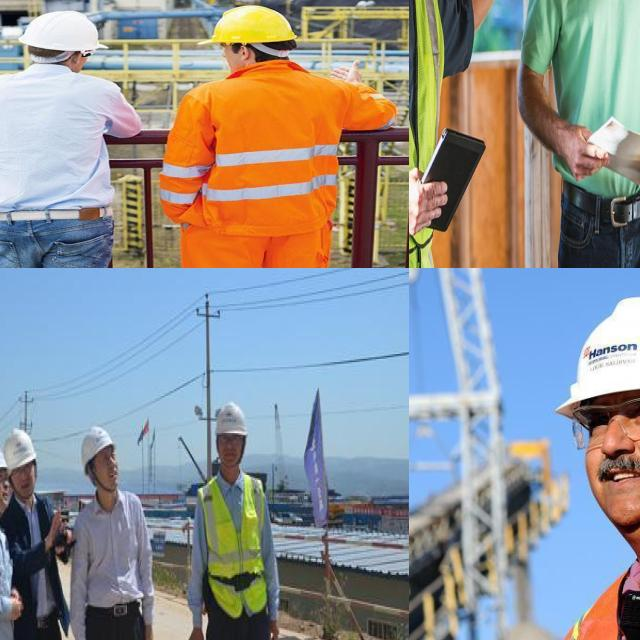face_nomask: (571, 391, 640, 523), (88, 444, 128, 490), (216, 433, 246, 470), (11, 460, 37, 498), (0, 466, 11, 518)
glasses: (565, 392, 640, 459)
hand_noglove: (561, 103, 601, 192), (409, 162, 450, 238), (43, 514, 70, 558), (10, 590, 23, 628), (186, 626, 210, 640), (265, 620, 279, 640), (141, 623, 155, 640)
head_helmet: (547, 286, 640, 397), (15, 10, 110, 50), (206, 3, 298, 43), (2, 424, 36, 468), (77, 425, 115, 462), (214, 399, 250, 433)
person: (483, 289, 640, 640), (166, 0, 350, 268), (521, 0, 640, 268), (0, 11, 116, 268), (409, 0, 487, 268), (192, 399, 273, 640), (76, 428, 157, 640), (5, 431, 74, 640)
vest: (187, 78, 356, 218), (204, 479, 267, 614)
